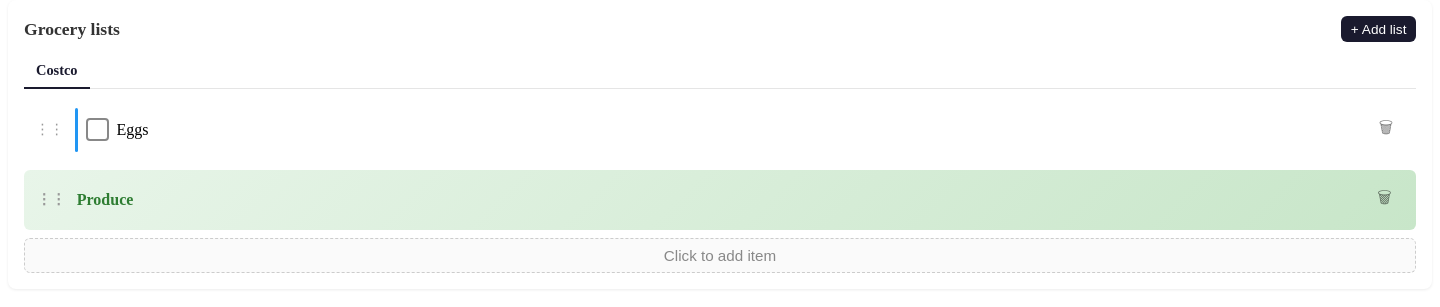
Test: GroceryLists item delete flow › deletes the item after confirming
Check: the button "Eggs" is shown, box x1=116 y1=121 x2=148 y2=138
Click the button named "Delete" at (1386,130), box x1=1364 y1=108 x2=1408 y2=152
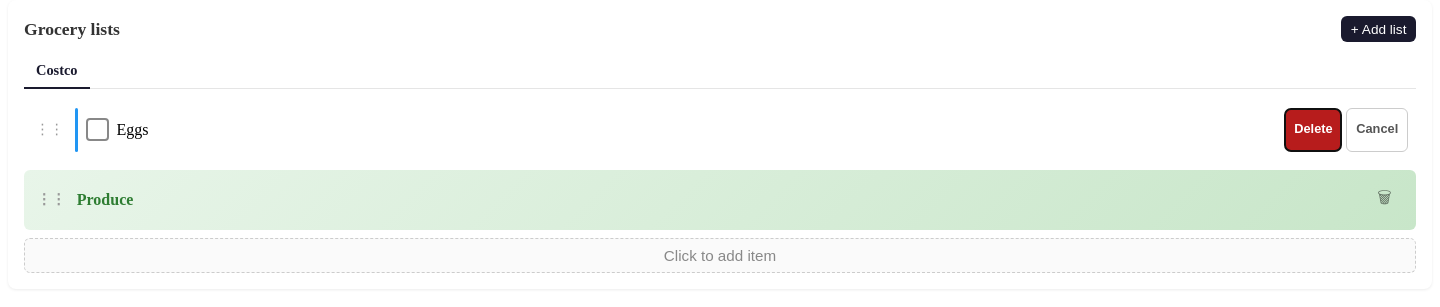
Click the button with aria-label "Confirm delete" at (1313,130), box x1=1284 y1=108 x2=1342 y2=152
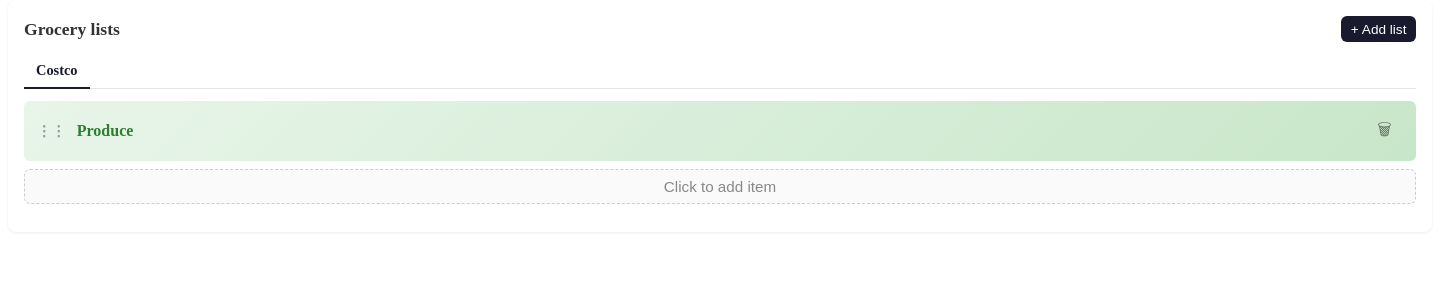
Check: the button "Eggs" is gone
